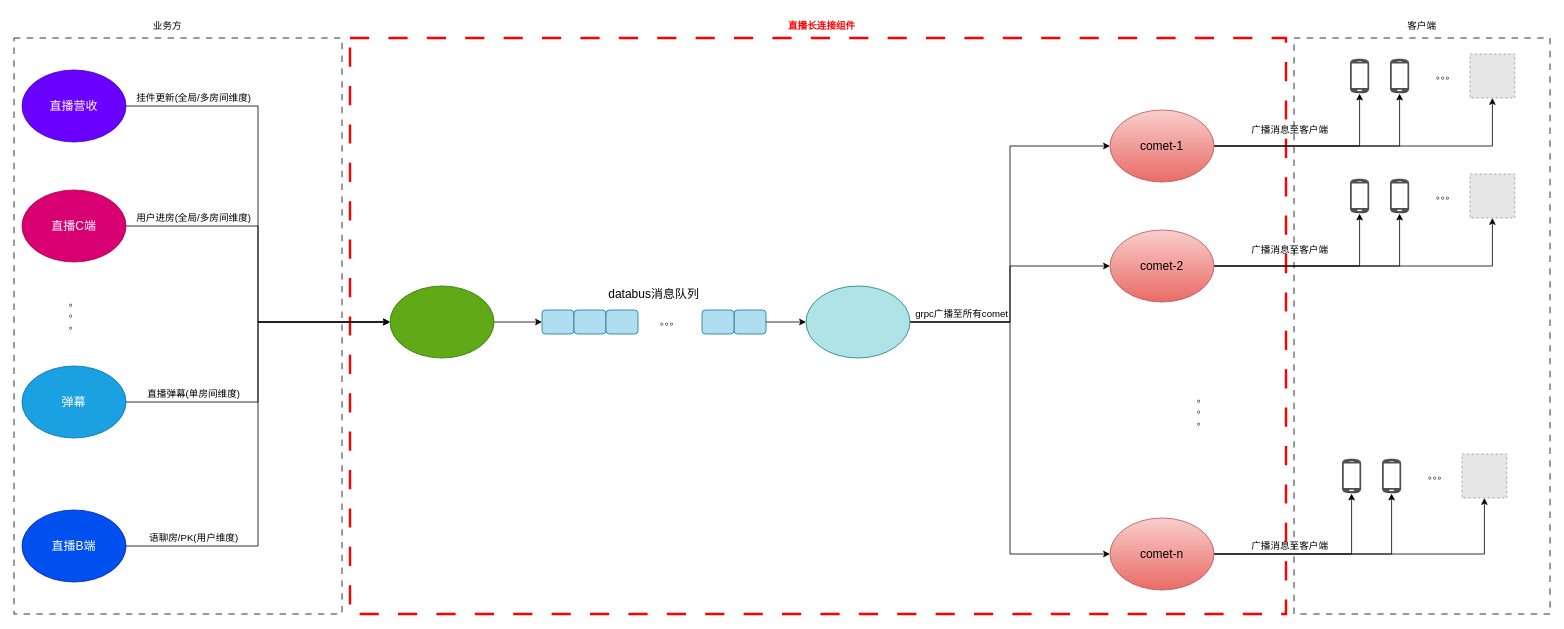
Some shapes in this 1564 by 629 pixel diagram are drawn without their labels. Grey dashed boxes stand in for pictures. Here are the shapes that lost their labels. From the top down, the centre of each, then its label:
point 441,321: broadcast-proxy
point 857,321: broaddcast-job
